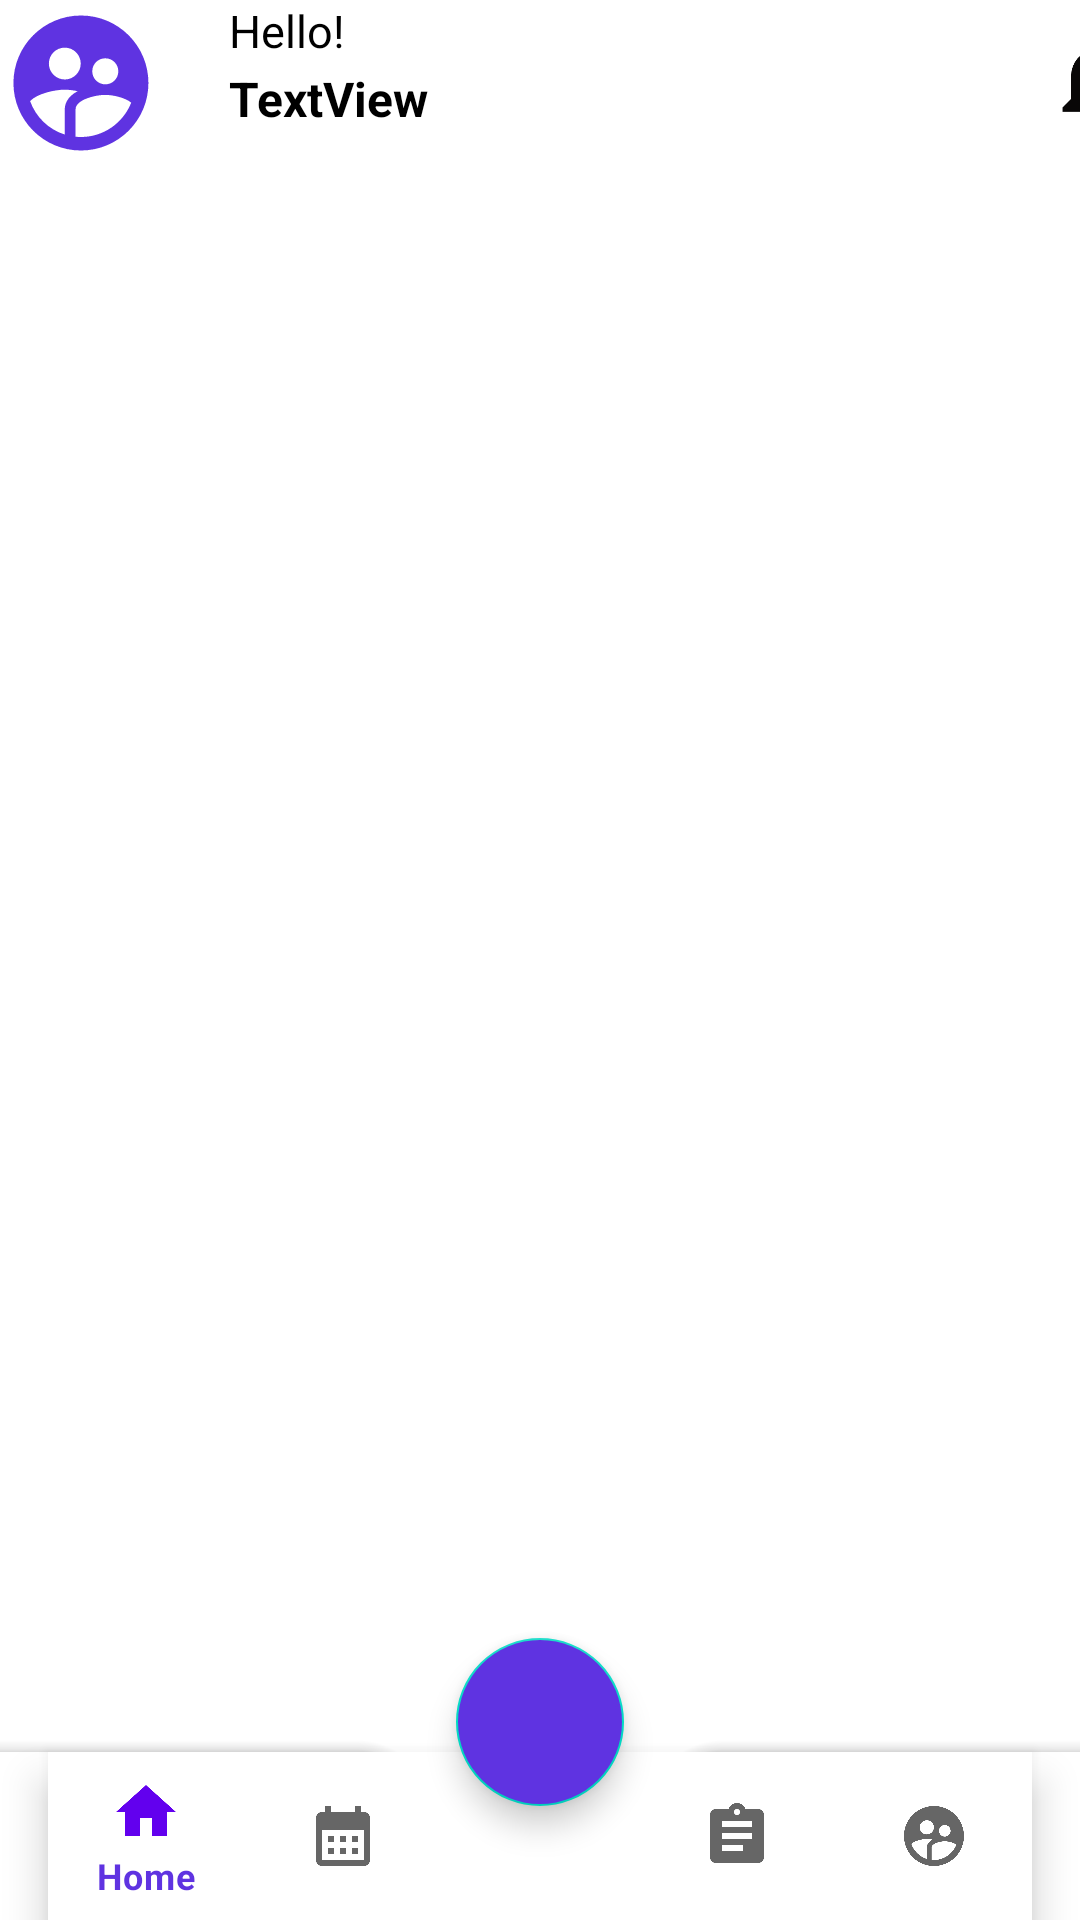

Screen size 1080w x 1920h. Icon name, then its center in pixels as (x,y):
supervised user circle: (81,83)
